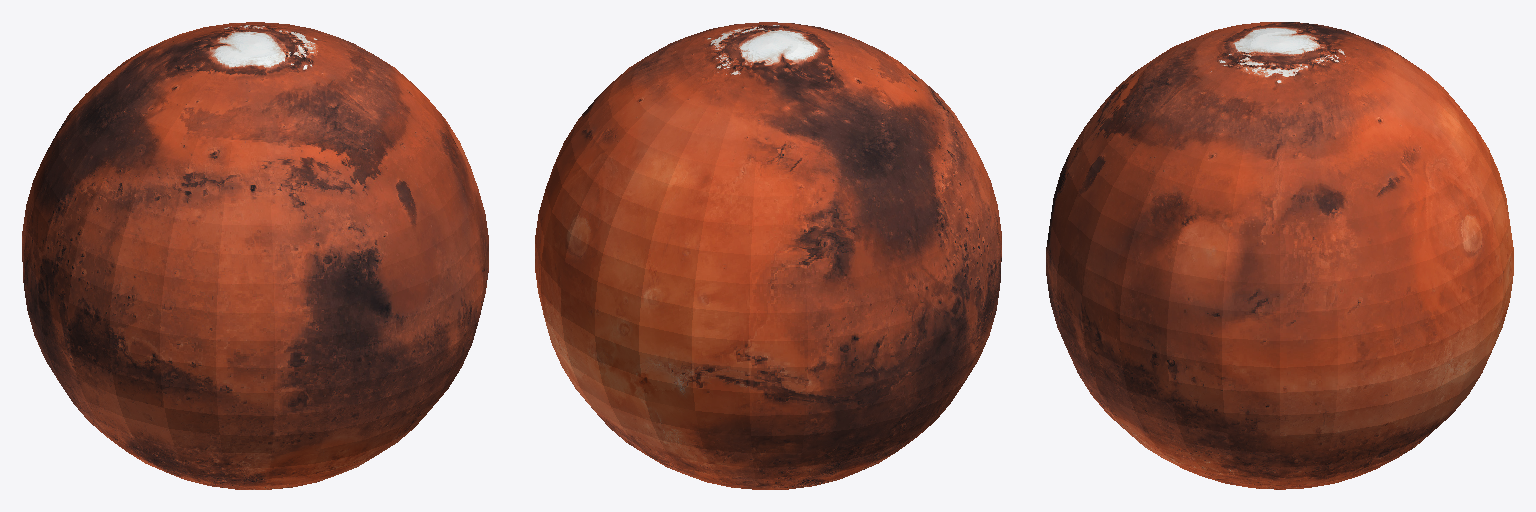
3 renders of one model, left to right at view 1: azimuth 30°, elevation 25°; view 2: azimuth 150°, elevation 25°; view 3: azimuth 270°, elevation 25°, orthographic.
Parts seen in each view (by area): view 1: mars; view 2: mars; view 3: mars.
Part boxes in pixels (bbox=[...]): mars: bbox=[22, 22, 488, 489]; mars: bbox=[535, 22, 1001, 489]; mars: bbox=[1046, 22, 1513, 489].
Bounding box in the file's own units: 38.71 × 38.94 × 38.78.
Materials: 1 (1 with a texture image).